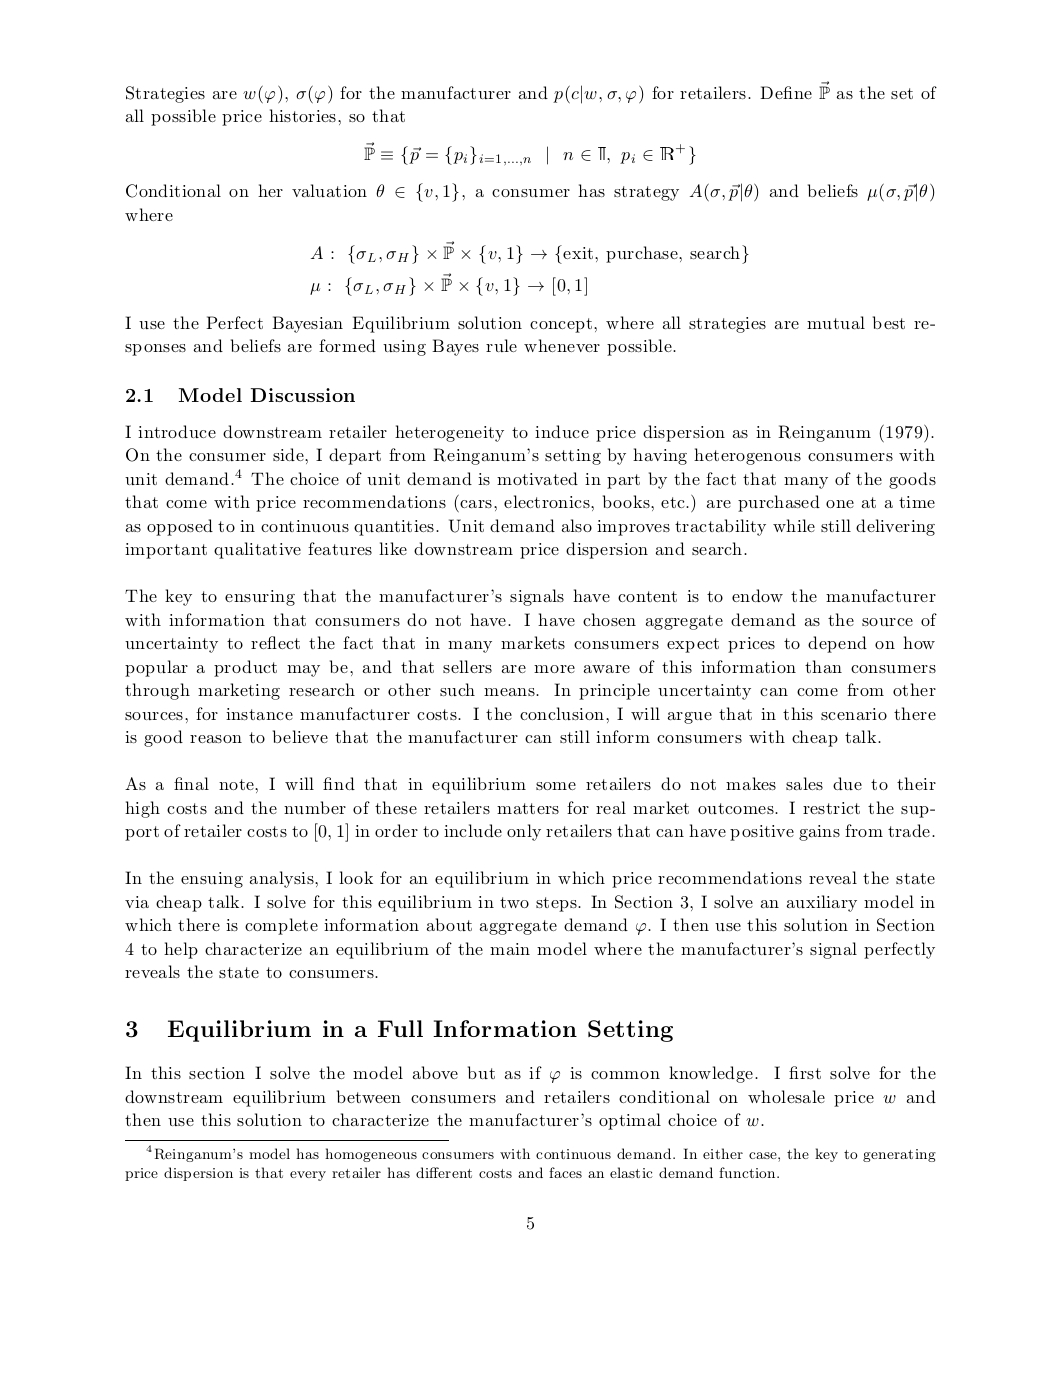formula: (310, 240, 748, 264), (364, 142, 695, 166), (310, 272, 586, 296)
